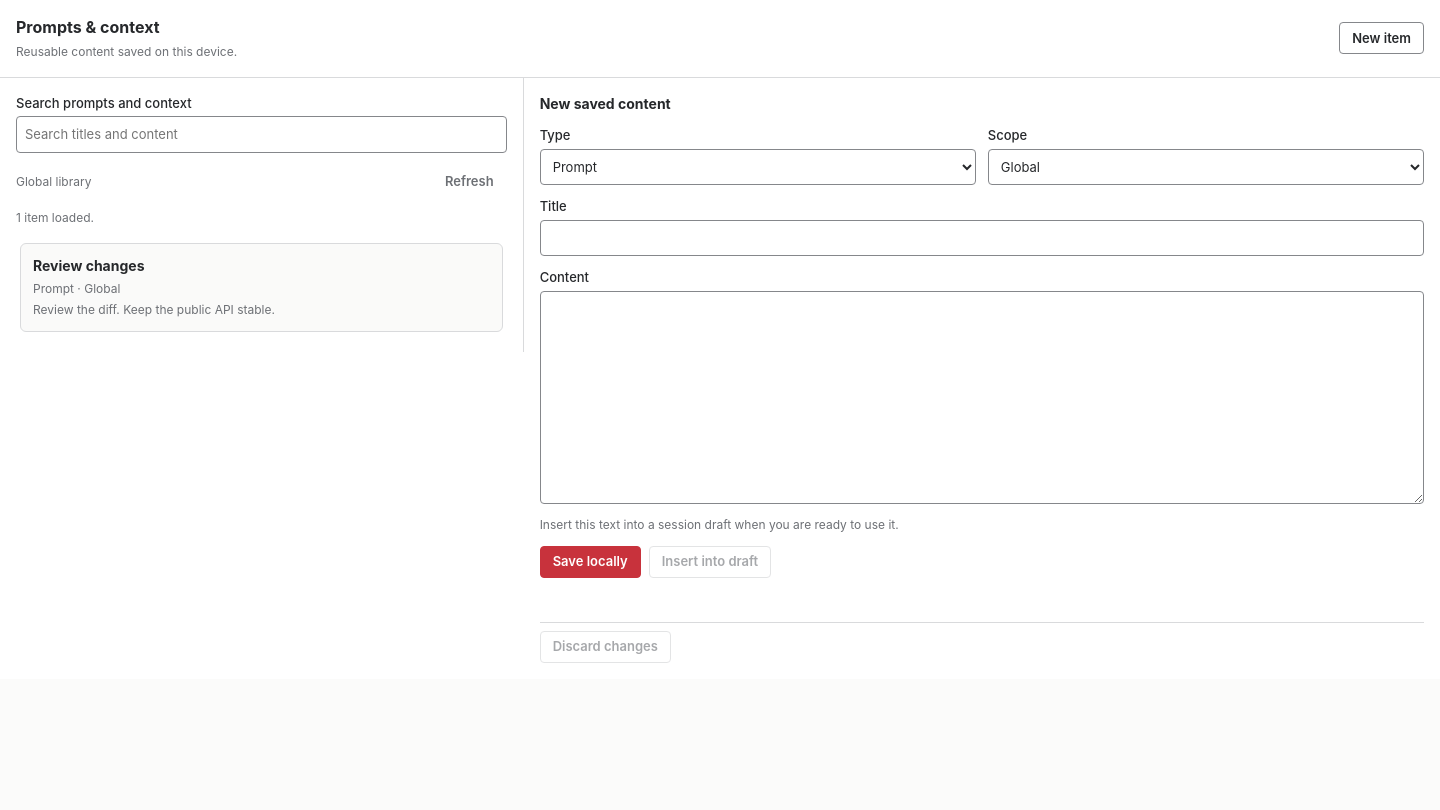
Test: KnowledgePanel › retains conflict edits and saves a copy without overwriting the newer revision
Click the button "Review changes".
click(89, 265)  # box 20,243 -> 503,332
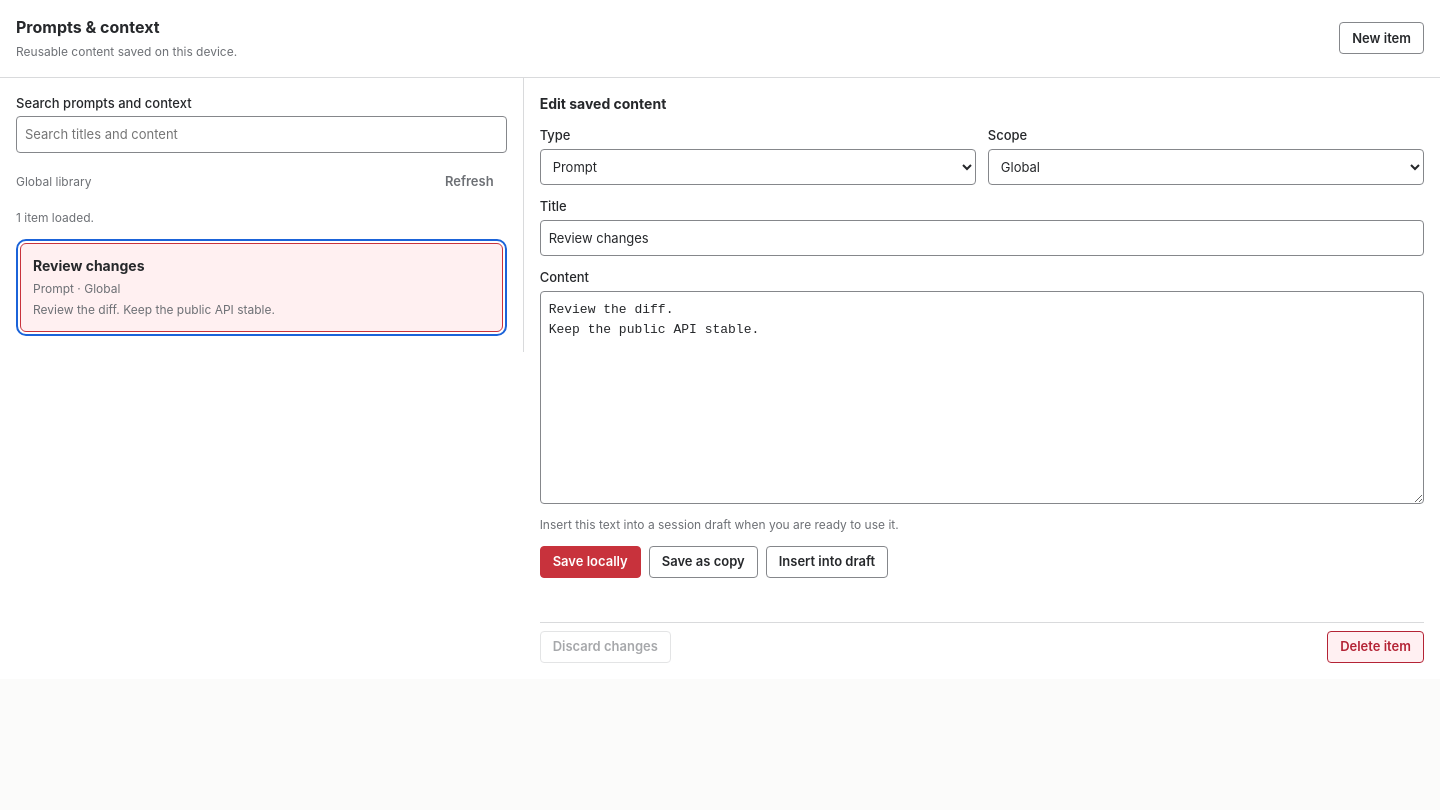
Replace the text in the text box labelled "Content" with "My retained draft" at (982, 398), box 540,291 -> 1424,504
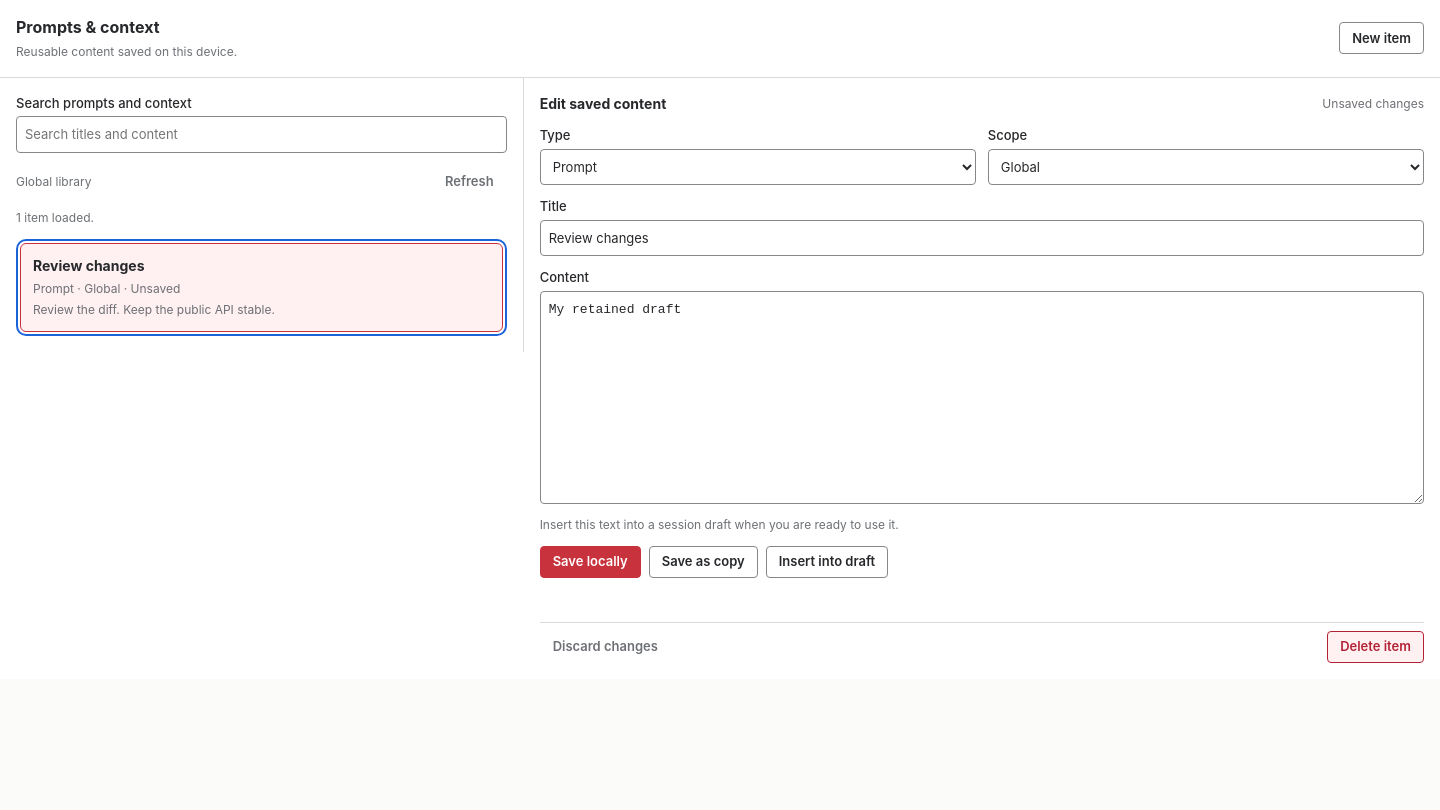
Click the button "Save locally".
click(590, 562)  # box 540,546 -> 641,578
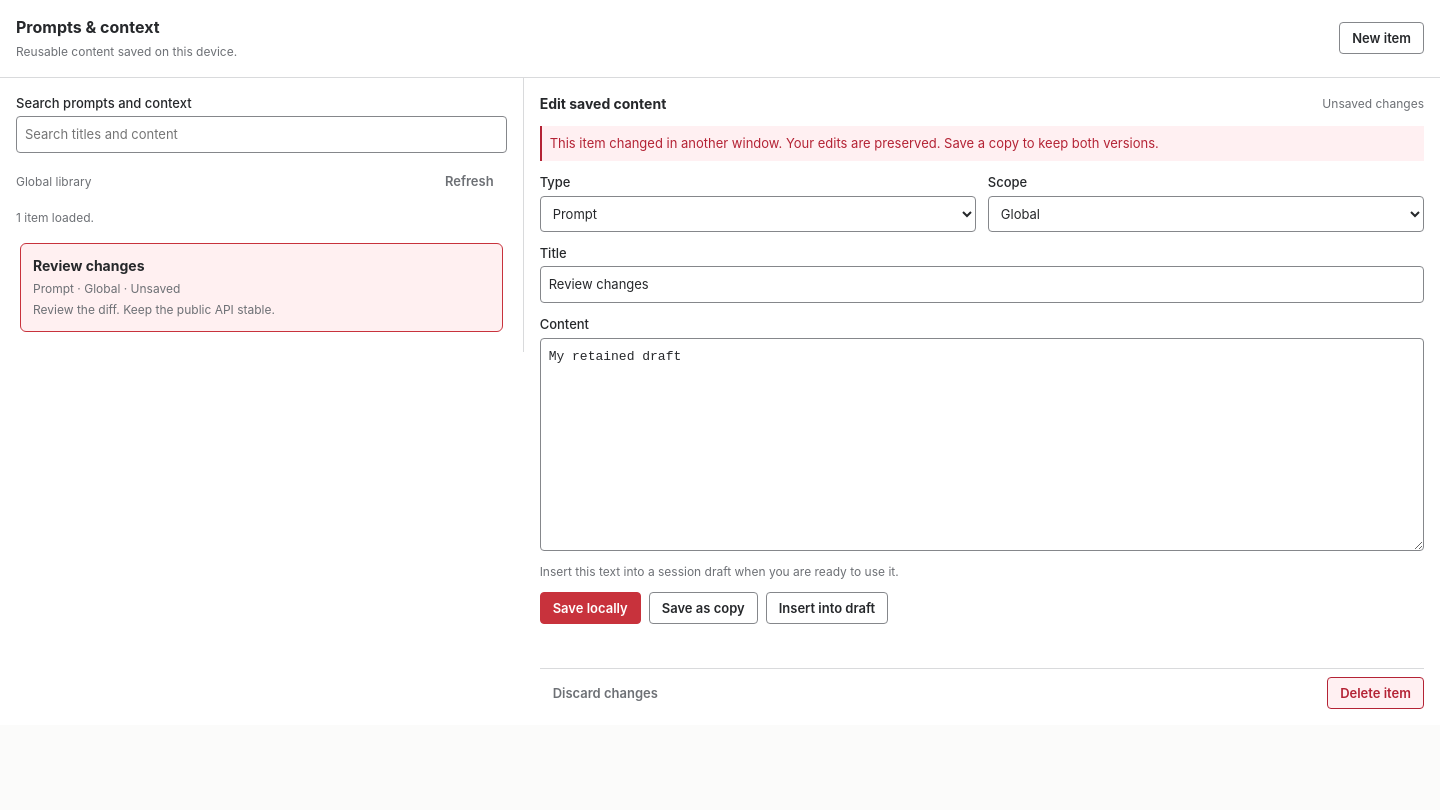
Expected: the 1st message shows "Your edits are preserved", 550,135 -> 1159,151
Click the button "Save as copy".
click(703, 608)  # box 649,592 -> 758,624
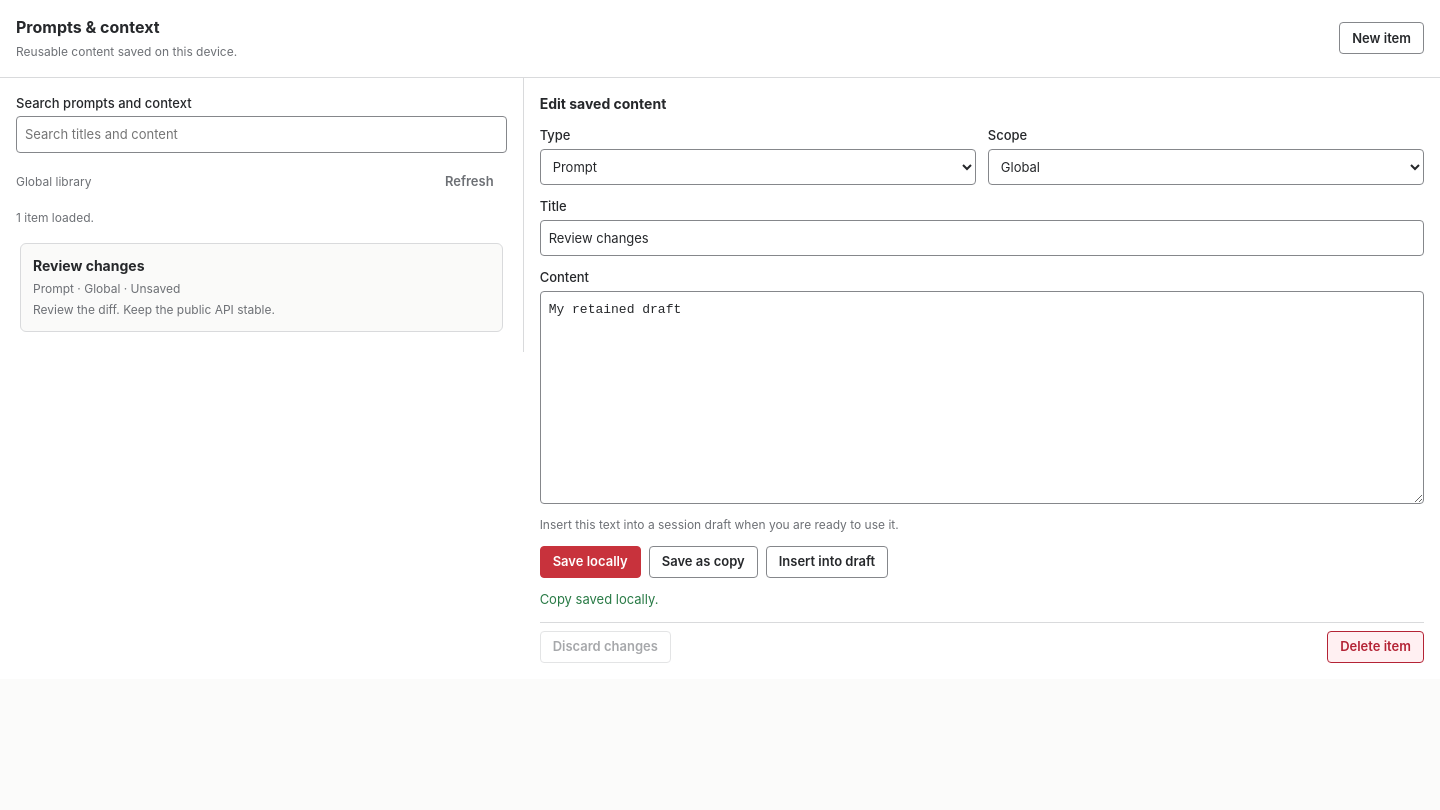
Expected: the text "Copy saved locally." is shown, 540,591 -> 658,607
